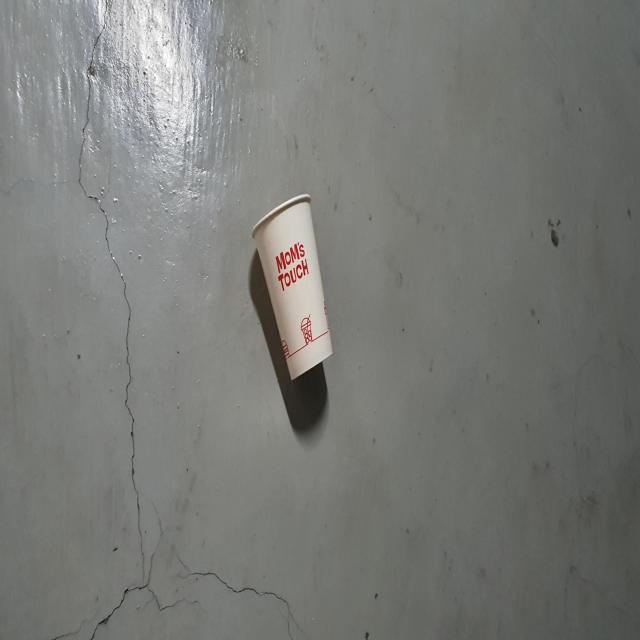paperpack: (253, 194, 332, 379)
